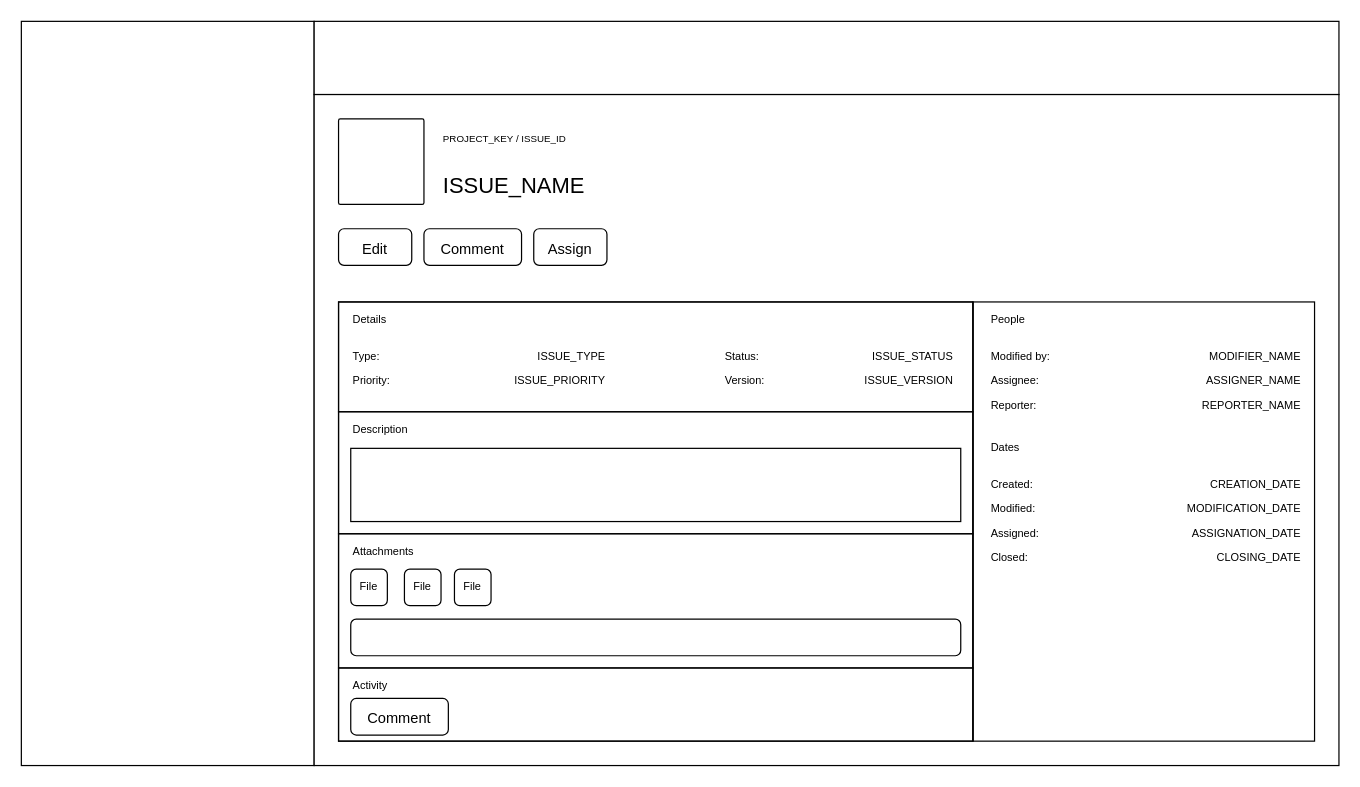
This 1360x787 diagram has some shape labels left out. Here are the shapes that lost their labels. From the top down, the centre of each, then its label:
At (x=826, y=57): "Navigation".
At (x=167, y=393): "Toolbar".
At (x=655, y=484): "ISSUE_DESCRIPTION".
At (x=655, y=637): "File Uploading".
